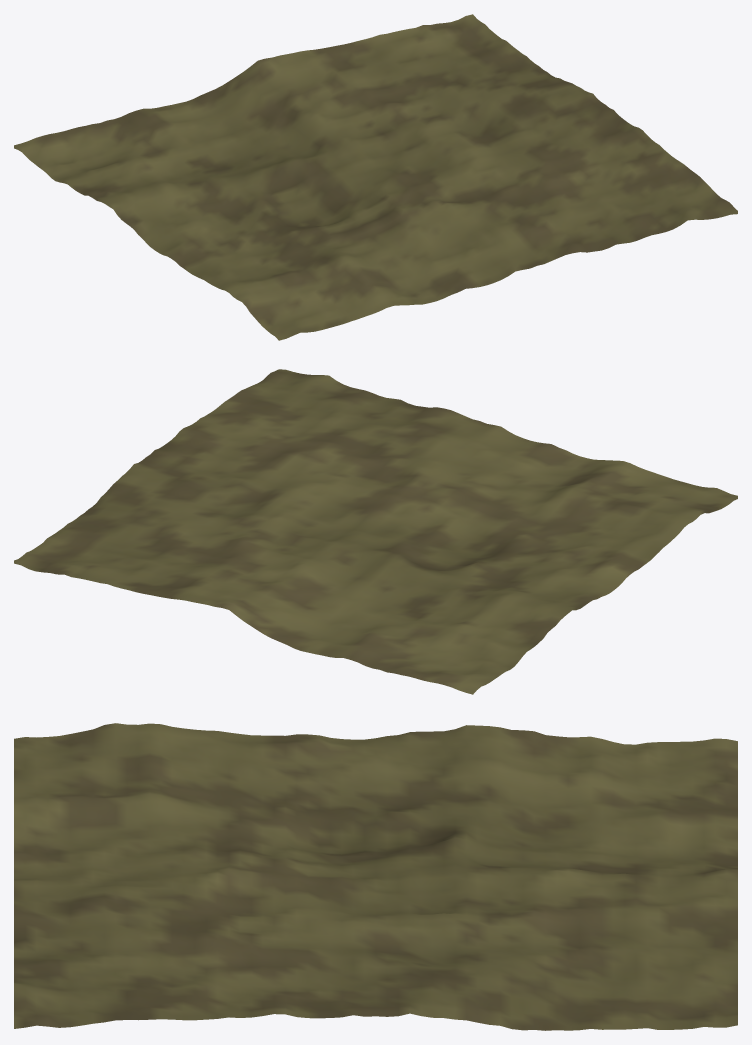
File: land_f_05_10.glb
The picture shows the model from 3 angles, top to bottom: view 1: azimuth 30°, elevation 25°; view 2: azimuth 150°, elevation 25°; view 3: azimuth 270°, elevation 25°; orthographic projection. The views are drawn at different scales.
Visible parts, largest first — view 1: land_f_05_10; view 2: land_f_05_10; view 3: land_f_05_10.
Part boxes in pixels (x1,y1,x2,y2): land_f_05_10: [14, 14, 737, 340]; land_f_05_10: [14, 369, 737, 694]; land_f_05_10: [14, 723, 737, 1030].
Size of the model in its own units: 3840 by 266 by 3840.
